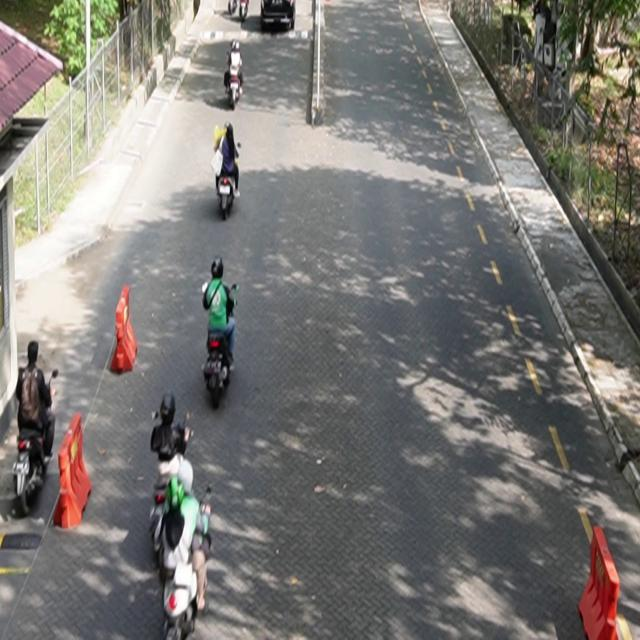car: (260, 1, 296, 32)
